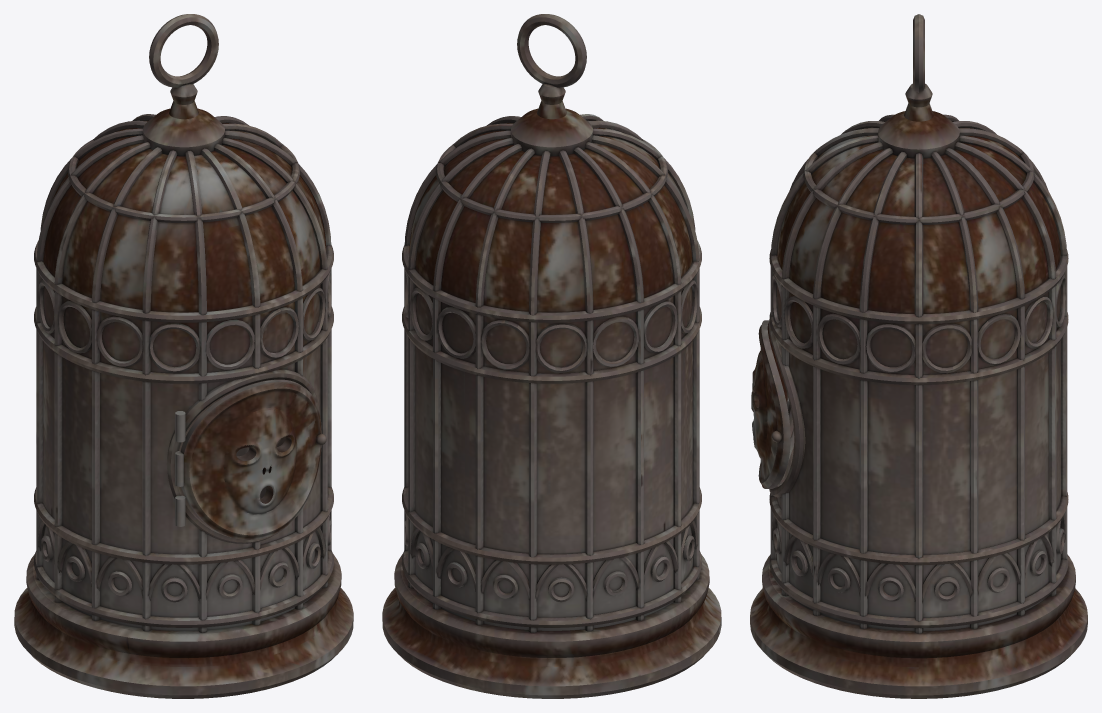
The model's file is birdcage.glb.
3 renders of one model, left to right at view 1: azimuth 30°, elevation 25°; view 2: azimuth 150°, elevation 25°; view 3: azimuth 270°, elevation 25°, orthographic.
Parts seen in each view (by area): view 1: cage, cage_shell, cage_door; view 2: cage, cage_shell; view 3: cage, cage_shell, cage_door.
Part boxes in pixels (x1=…): cage: x1=14, y1=14, x2=353, y2=698; cage_shell: x1=43, y1=120, x2=326, y2=630; cage_door: x1=175, y1=379, x2=326, y2=539; cage: x1=382, y1=14, x2=721, y2=698; cage_shell: x1=409, y1=120, x2=692, y2=630; cage: x1=750, y1=14, x2=1087, y2=698; cage_shell: x1=777, y1=121, x2=1060, y2=631; cage_door: x1=751, y1=320, x2=790, y2=488.
Bounding box in the file's own units: 0.136 × 0.2719 × 0.136.
1 material, 1 textured.
